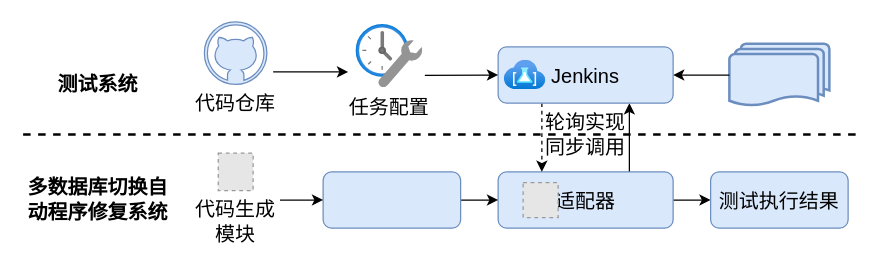
Image size: 884x268. Some labels were removed from this diagram. Grey dashed boxes stand in for pictures. Each missing label, with the centre of its shape:
SQL配置文件: the point at 391,199
测试用例: the point at 779,74
